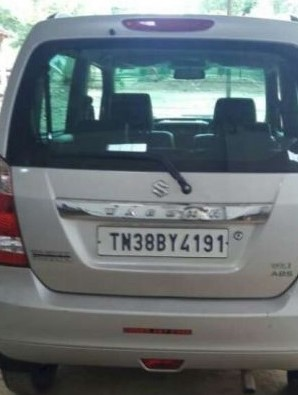TN38BY4191: (97, 226, 228, 258)
